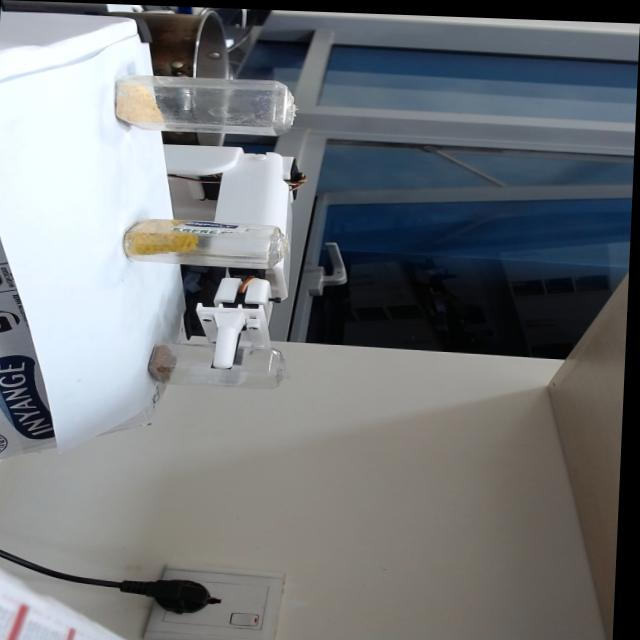cooking_pot: (97, 6, 232, 80)
curry_powder: (123, 217, 201, 257)
garlic_powder: (116, 77, 169, 131)
maggie_open: (152, 343, 181, 382)
